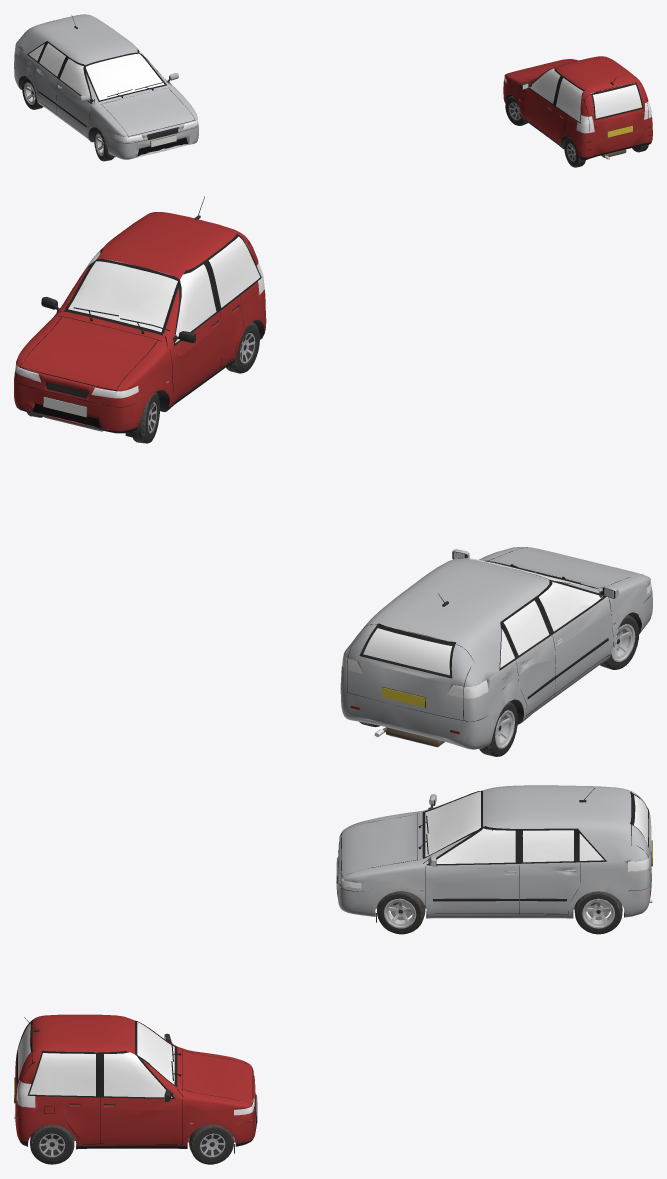
The model's file is cell_m3_m1.lite.glb.
3 renders of one model, top to bottom at view 1: azimuth 30°, elevation 25°; view 2: azimuth 150°, elevation 25°; view 3: azimuth 270°, elevation 25°, orthographic. The views are drawn at different scales.
Visible parts, largest first — view 1: cell_m3_m1; view 2: cell_m3_m1; view 3: cell_m3_m1.
Boxes of the visible parts, x1=… form: cell_m3_m1: x1=14, y1=14, x2=652, y2=167; cell_m3_m1: x1=14, y1=196, x2=652, y2=756; cell_m3_m1: x1=14, y1=785, x2=652, y2=1164.
Bounding box in the file's own units: 8.86 × 1.71 × 8.02.
